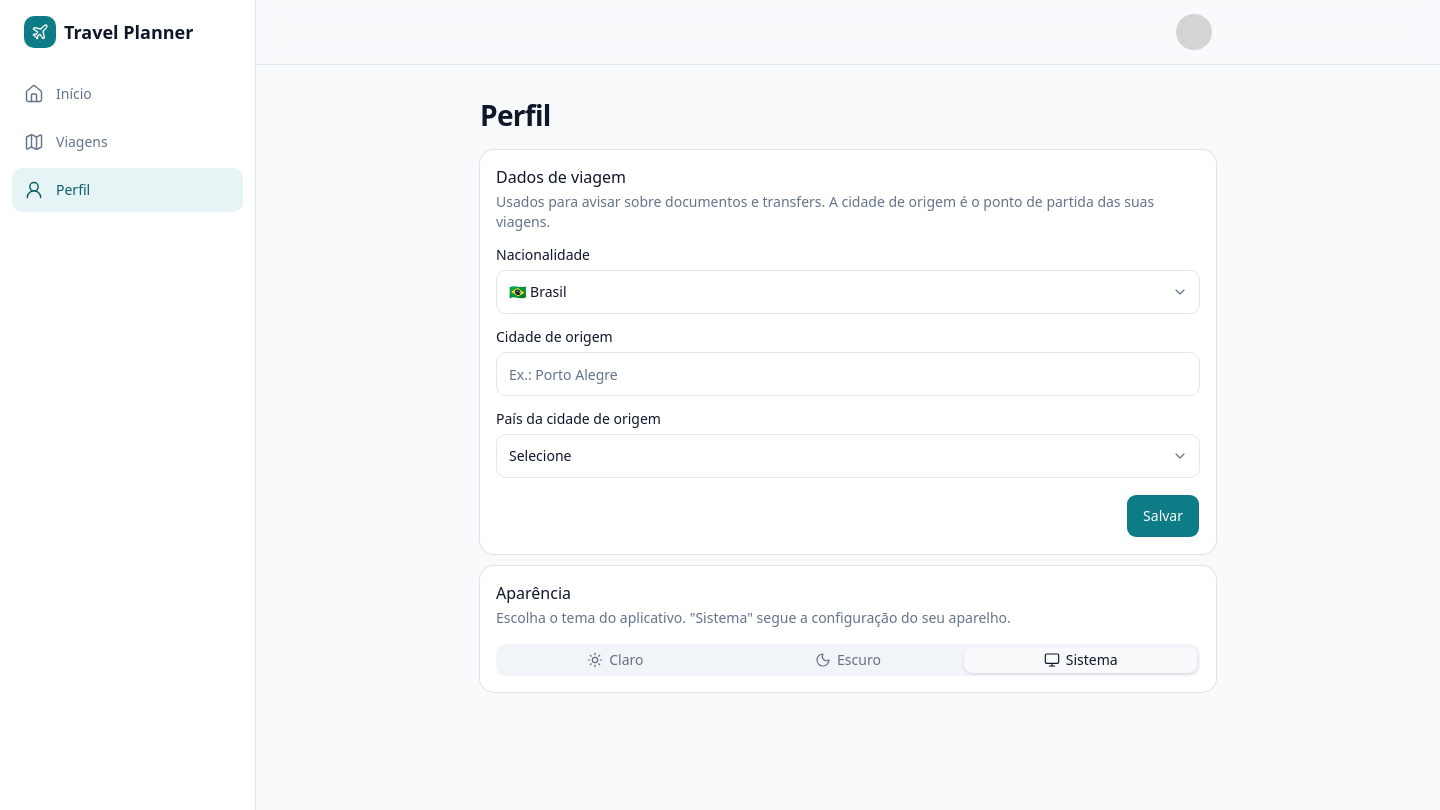
Test case: ProfileForm › avisa quando o perfil foi alterado em outro lugar (409)
Click the button "Salvar" at x=1163, y=516, box [1126, 494, 1200, 538]
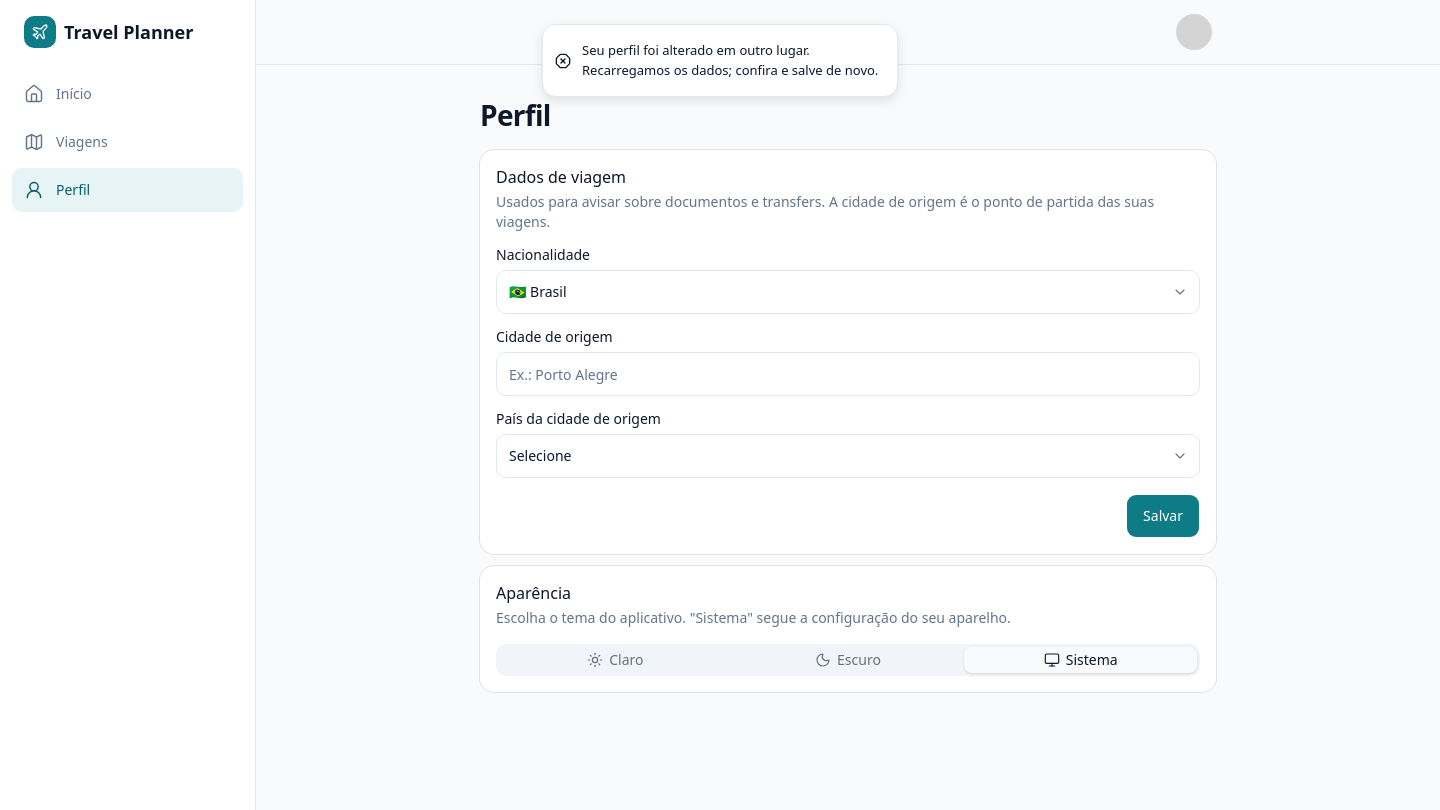
Expected: the text "alterado em outro lugar" is shown, [582, 41, 878, 78]
